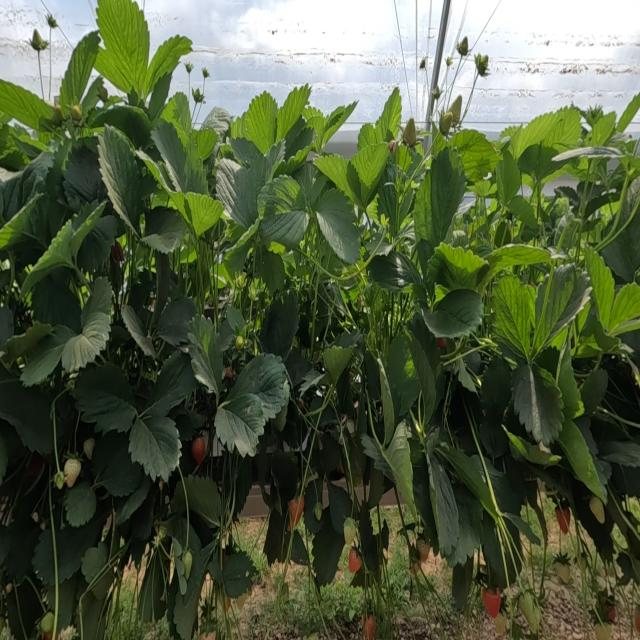Flowers: (45, 14, 58, 30), (192, 88, 203, 104), (184, 62, 192, 75)
Leaves: (415, 147, 466, 258), (533, 264, 588, 355), (98, 0, 149, 97), (21, 219, 84, 296), (98, 127, 142, 234), (72, 363, 138, 431), (600, 177, 640, 282), (511, 364, 563, 444), (173, 540, 215, 639), (228, 354, 289, 420), (135, 150, 190, 223), (439, 446, 496, 515), (408, 313, 444, 421), (1, 381, 54, 454), (56, 507, 107, 581), (259, 175, 309, 250), (491, 276, 535, 361), (0, 153, 54, 220), (129, 409, 179, 481), (507, 108, 579, 158), (426, 453, 459, 557), (147, 351, 197, 418), (315, 188, 359, 263), (92, 431, 143, 495), (386, 332, 422, 422), (21, 325, 74, 385), (482, 511, 522, 590), (561, 419, 603, 494), (59, 30, 99, 107), (215, 394, 264, 456), (480, 360, 511, 458), (420, 289, 483, 337), (62, 310, 111, 371), (387, 422, 416, 522), (187, 315, 223, 395), (0, 195, 53, 248), (312, 505, 344, 587), (145, 35, 191, 92), (263, 509, 309, 565), (216, 161, 255, 227), (259, 295, 299, 359), (1, 81, 52, 131), (450, 129, 499, 181), (32, 280, 81, 332), (0, 516, 38, 583), (314, 155, 361, 209), (584, 247, 615, 328), (237, 92, 278, 153), (95, 105, 151, 149), (350, 142, 387, 208), (434, 245, 487, 291), (485, 244, 551, 280), (152, 123, 186, 190), (0, 322, 53, 364), (77, 215, 116, 271), (450, 496, 482, 564), (6, 580, 42, 639), (64, 144, 100, 202), (485, 458, 521, 515), (142, 208, 186, 253), (276, 84, 310, 142), (506, 430, 560, 466), (318, 101, 357, 149), (139, 553, 166, 622), (378, 183, 413, 236), (157, 297, 195, 345), (557, 351, 583, 418), (82, 542, 112, 600), (224, 220, 259, 269), (82, 576, 109, 639), (368, 251, 410, 291), (116, 473, 150, 522), (295, 162, 325, 217), (272, 450, 298, 513), (185, 193, 223, 236), (131, 488, 154, 559), (607, 282, 639, 333), (185, 475, 219, 523), (122, 305, 154, 355), (81, 278, 112, 327), (163, 92, 192, 143), (223, 551, 255, 597), (497, 146, 520, 206), (64, 482, 95, 526), (359, 503, 379, 571), (326, 480, 351, 534), (285, 116, 315, 161), (256, 248, 285, 292), (183, 141, 207, 194), (580, 368, 607, 415), (377, 88, 401, 140), (379, 359, 394, 441), (310, 398, 339, 439), (261, 139, 286, 186), (324, 345, 354, 384), (504, 513, 540, 545), (597, 440, 639, 467), (72, 200, 105, 234), (284, 348, 312, 388), (148, 73, 171, 120), (552, 146, 624, 161), (554, 209, 580, 250), (362, 435, 388, 475), (58, 578, 77, 631), (231, 137, 263, 167), (248, 151, 274, 187), (589, 112, 615, 146), (508, 196, 537, 226), (358, 123, 389, 151), (453, 358, 477, 391), (194, 129, 218, 159), (231, 138, 257, 165), (167, 513, 187, 548), (299, 369, 324, 396), (366, 233, 392, 258), (391, 218, 415, 245), (217, 319, 234, 351), (341, 277, 361, 302), (554, 186, 578, 204), (227, 307, 243, 333), (486, 210, 501, 233), (189, 528, 201, 549), (471, 456, 481, 469), (48, 587, 53, 607), (468, 380, 473, 386)
Strawberries: (518, 591, 541, 634), (575, 543, 591, 581), (482, 588, 499, 619), (597, 595, 615, 623), (64, 458, 80, 487), (29, 30, 47, 55), (448, 95, 462, 125), (290, 495, 303, 527), (344, 518, 358, 547), (589, 496, 603, 523), (556, 507, 570, 534), (348, 548, 362, 574), (192, 437, 205, 465), (440, 112, 456, 134), (404, 119, 417, 146), (474, 53, 488, 76), (556, 562, 571, 583), (417, 538, 430, 562), (181, 549, 191, 577), (494, 614, 507, 635), (594, 622, 610, 639), (111, 240, 123, 262), (41, 612, 54, 632), (364, 616, 375, 639), (456, 36, 468, 57), (604, 602, 615, 623), (83, 439, 94, 459), (98, 81, 108, 103), (70, 105, 82, 123), (53, 104, 63, 124), (54, 472, 64, 487), (634, 605, 639, 634), (314, 502, 322, 520), (410, 562, 419, 575), (433, 87, 442, 100), (235, 336, 243, 349)
